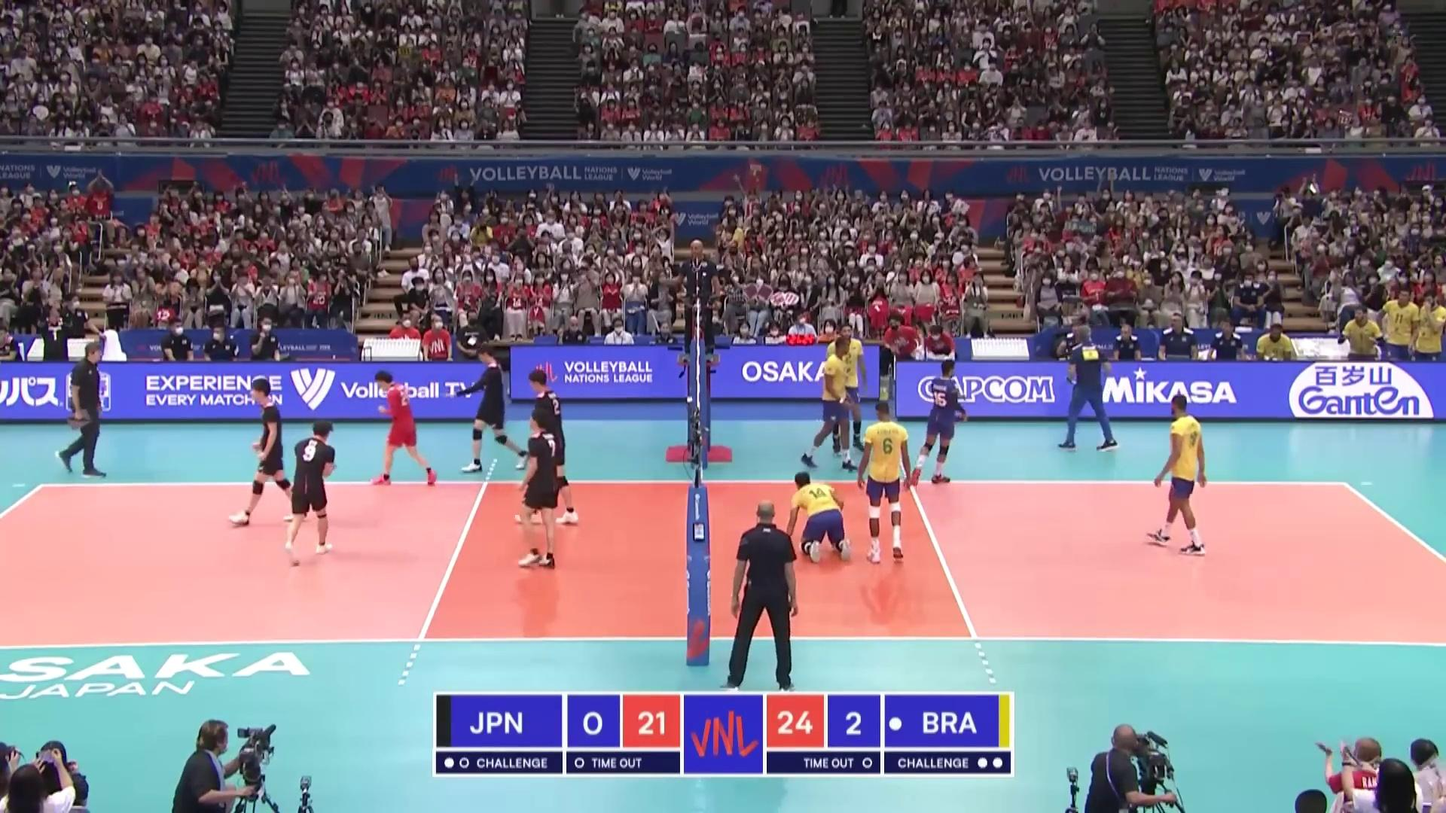player: (1146, 395, 1206, 551), (857, 405, 914, 567), (518, 372, 578, 523), (233, 380, 294, 523), (460, 345, 521, 474), (288, 419, 339, 565), (371, 371, 433, 487), (513, 411, 558, 570), (807, 338, 853, 473), (787, 469, 850, 564), (922, 360, 965, 482), (828, 325, 868, 452)
refree: (726, 500, 804, 686), (680, 241, 718, 363)
